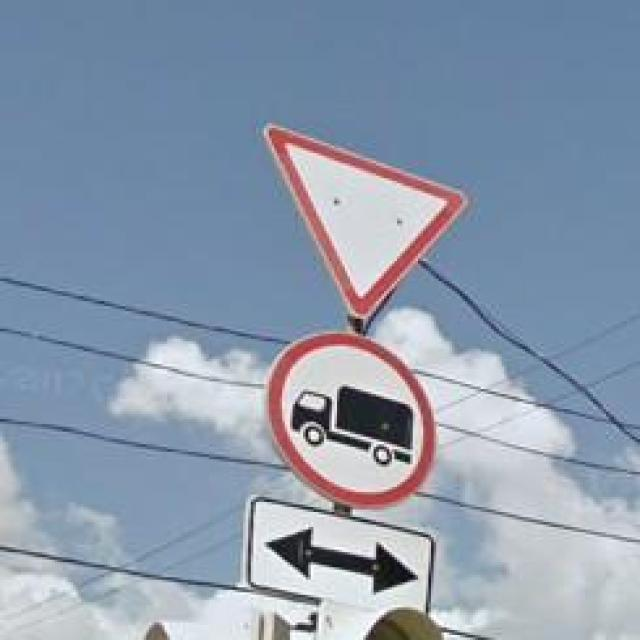give_way: (261, 126, 470, 322)
truck: (266, 331, 436, 507)
